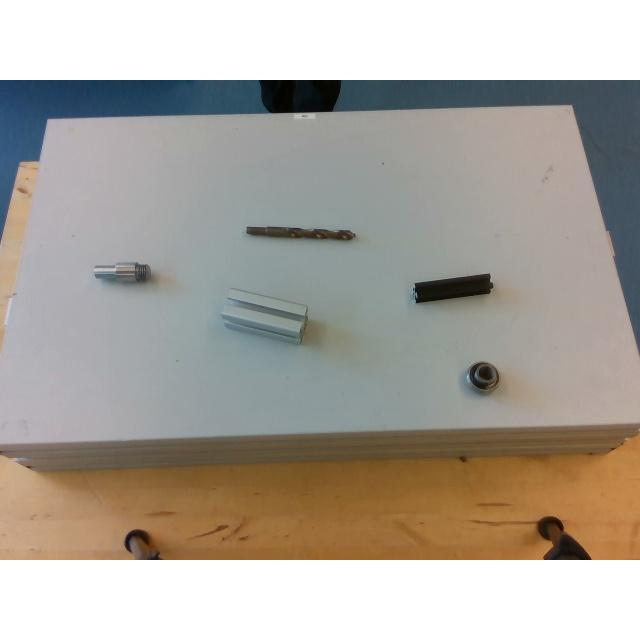Axis2: (92, 260, 152, 286)
Bearing2: (467, 361, 499, 392)
F20_20_B: (413, 273, 491, 301)
M20_100: (246, 224, 354, 240)
S40_40_G: (222, 288, 306, 342)
